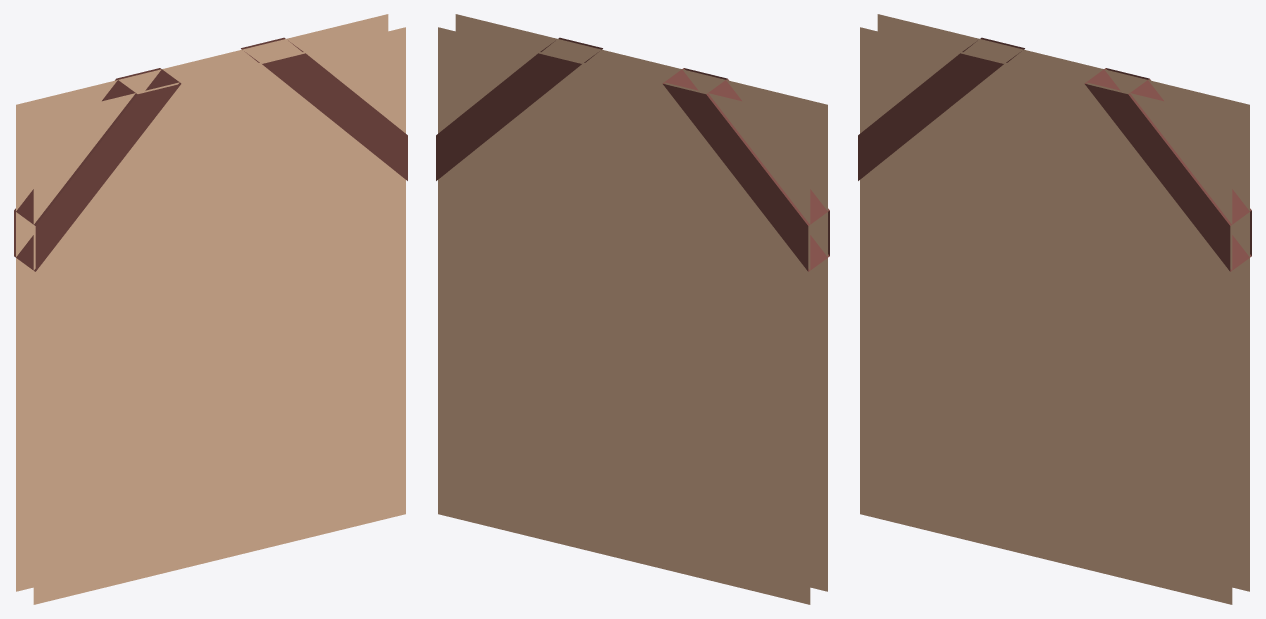
Rendered from Wall_2.fbx.
3 renders of one model, left to right at view 1: azimuth 30°, elevation 25°; view 2: azimuth 150°, elevation 25°; view 3: azimuth 330°, elevation 25°, orthographic.
Parts seen in each view (by area): view 1: Wall_2; view 2: Wall_2; view 3: Wall_2.
Boxes of the visible parts, box(x1,y1,x2,y2) form: Wall_2: box(14, 14, 407, 604); Wall_2: box(436, 14, 829, 604); Wall_2: box(858, 14, 1251, 604).
Bounding box in the file's own units: 2.4 × 0.24 × 3.
